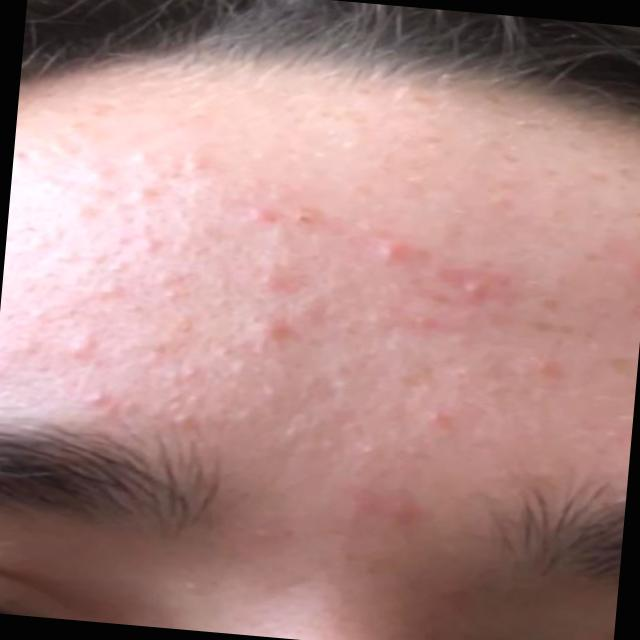fungal: (0, 135, 632, 476)
